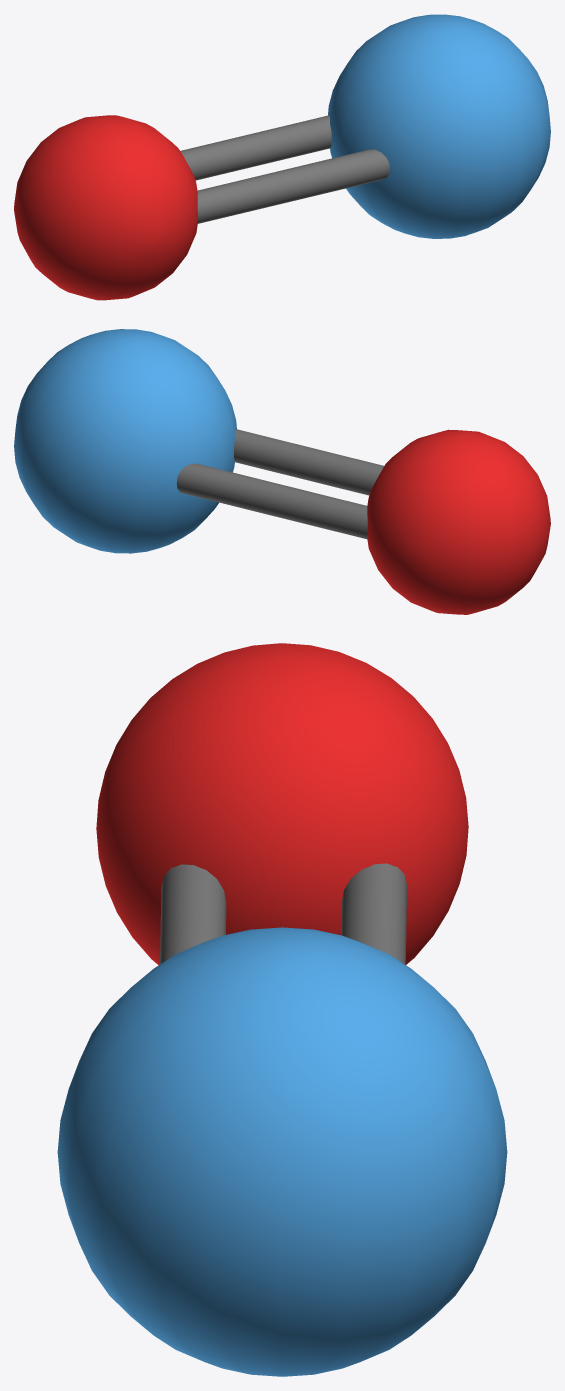
3 renders of one model, top to bottom at view 1: azimuth 30°, elevation 25°; view 2: azimuth 150°, elevation 25°; view 3: azimuth 270°, elevation 25°, orthographic. The views are drawn at different scales.
Parts seen in each view (by area): view 1: NO; view 2: NO; view 3: NO.
Boxes of the visible parts, x1,y1,x2,y2 form: NO: (14,14,550,300); NO: (14,329,550,614); NO: (57,643,507,1376).
Bounding box in the file's own units: 5.85 × 2.23 × 2.23.
